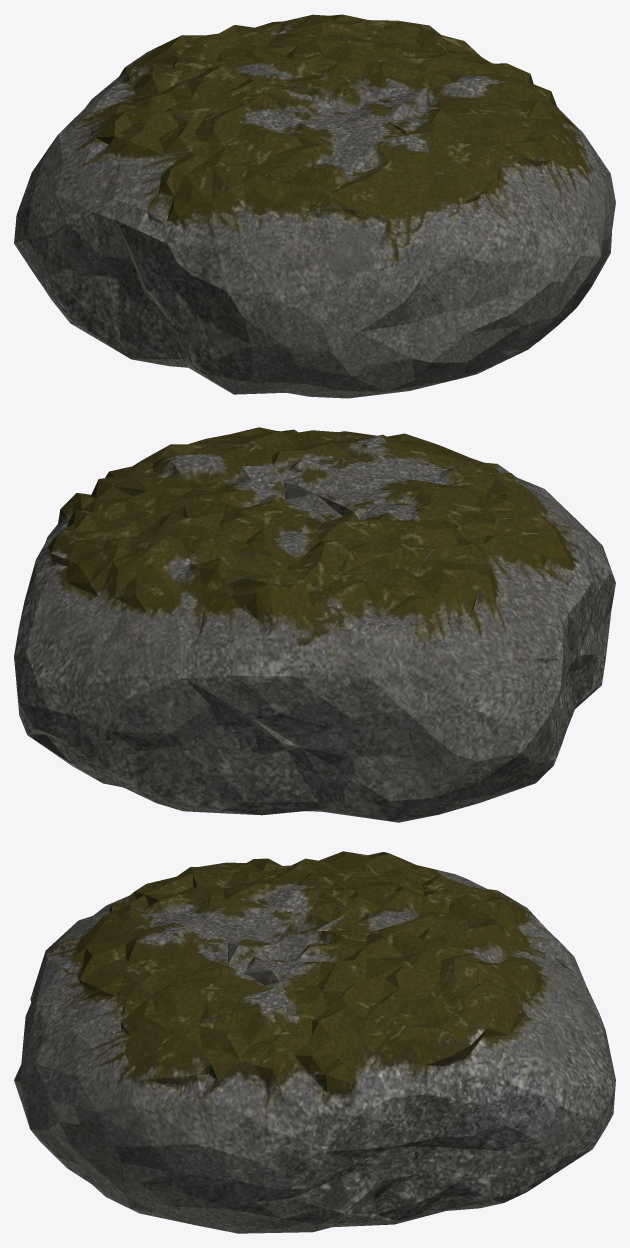
The model's file is boulder_c.glb.
3 renders of one model, top to bottom at view 1: azimuth 30°, elevation 25°; view 2: azimuth 150°, elevation 25°; view 3: azimuth 270°, elevation 25°, orthographic. The views are drawn at different scales.
Visible parts, largest first — view 1: lo; view 2: lo; view 3: lo.
Boxes of the visible parts, left/top/right/bottom form: lo: left=14, top=14, right=615, bottom=398; lo: left=14, top=427, right=615, bottom=822; lo: left=14, top=851, right=615, bottom=1233.
Bounding box in the file's own units: 0.9944 × 0.4357 × 1.
Materials: 1 (1 with a texture image).
